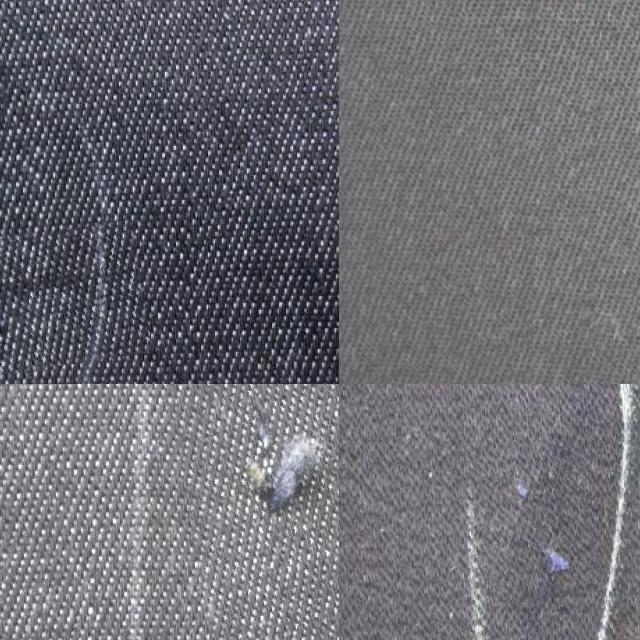Thread_other: (184, 384, 339, 640), (0, 233, 148, 384), (476, 438, 596, 602)
